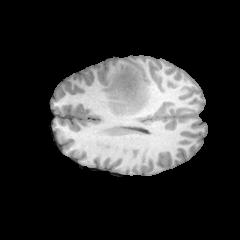glioma: (101, 65, 153, 115)
